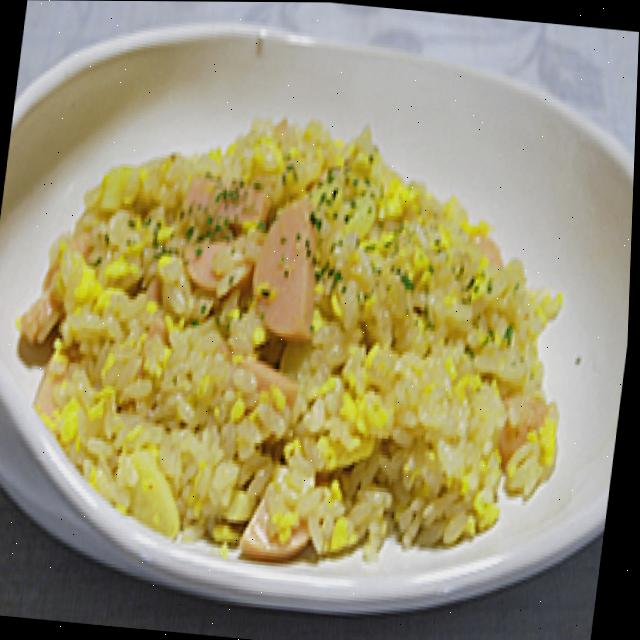米饭主食: (0, 12, 640, 609)
